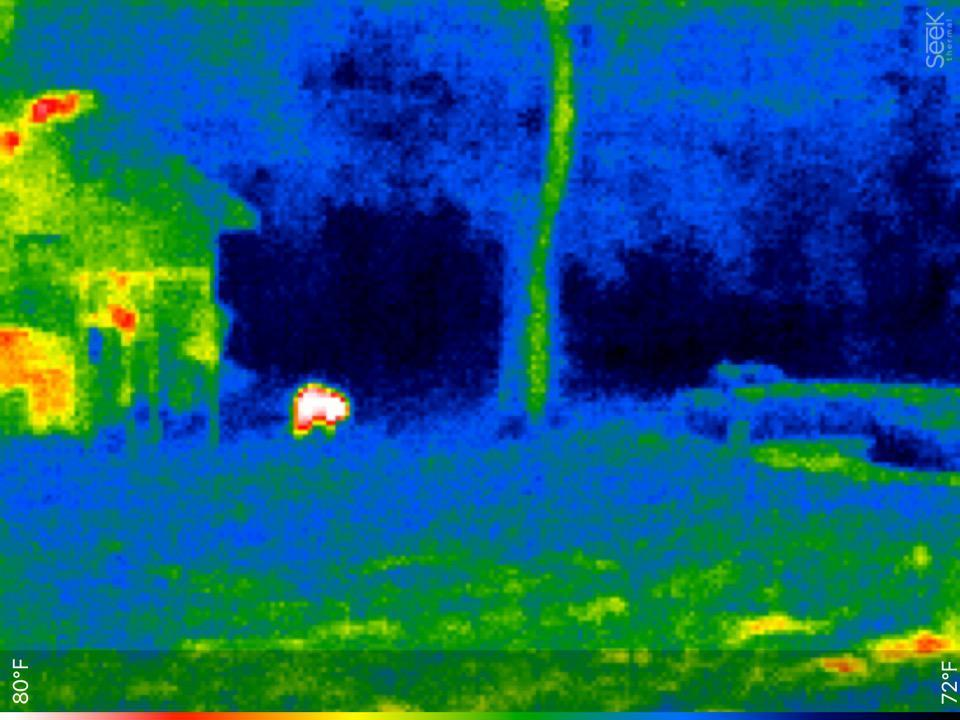dog: (282, 372, 357, 446)
